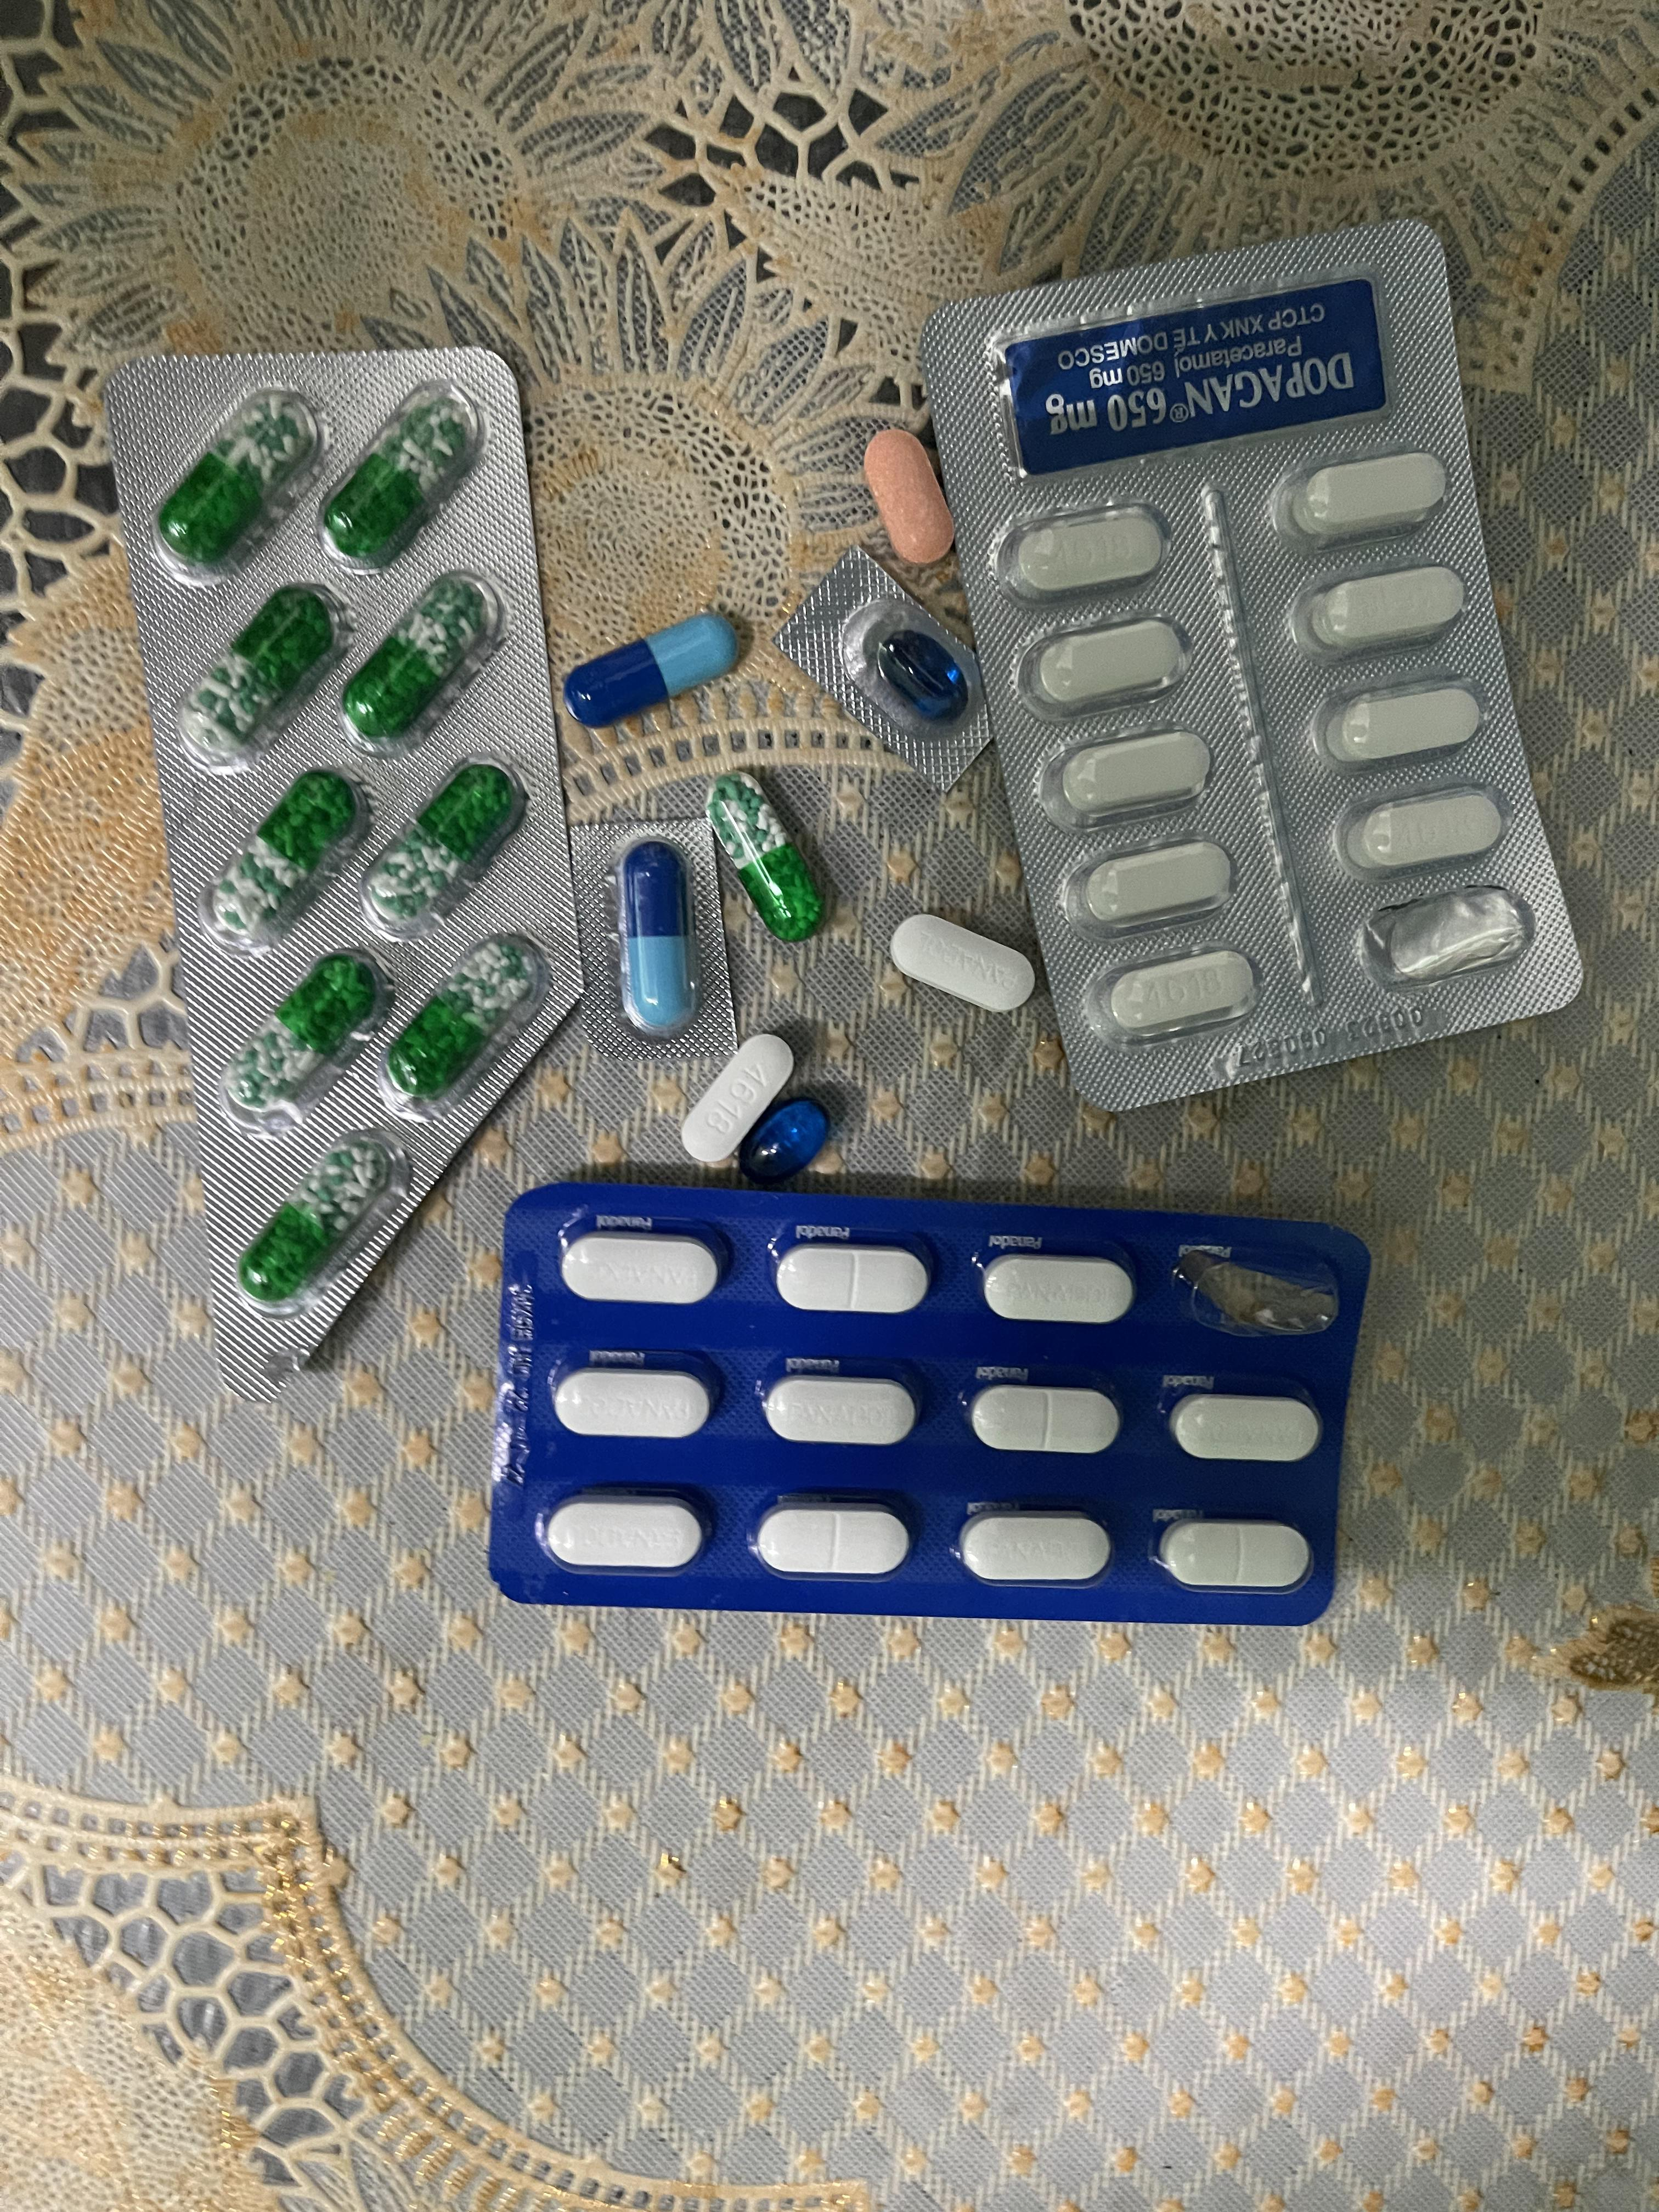Lincomyxin_500mg: (880, 631, 971, 718), (737, 1096, 828, 1179)
Loratadine_10mg: (864, 428, 955, 568)
Paracetamol_350mg: (889, 914, 1037, 1014), (542, 1491, 709, 1573), (756, 1496, 918, 1580), (563, 1230, 730, 1306), (552, 1367, 720, 1442), (763, 1371, 924, 1446), (957, 1508, 1112, 1585), (979, 1251, 1138, 1324), (774, 1242, 931, 1315), (1166, 1390, 1323, 1463), (1155, 1519, 1312, 1592), (969, 1383, 1122, 1454)
Paracetamol_500mg: (1272, 446, 1452, 549), (1084, 946, 1255, 1049), (995, 500, 1162, 603), (1046, 726, 1215, 827), (1063, 840, 1230, 937), (1295, 563, 1466, 657), (1025, 615, 1183, 714), (1338, 784, 1507, 876), (1319, 678, 1485, 770), (678, 1035, 796, 1162)
Paracetamol_650mg: (153, 390, 324, 580), (179, 583, 357, 765), (199, 768, 371, 954), (359, 752, 530, 935), (319, 381, 483, 571), (338, 571, 505, 752), (220, 956, 396, 1125), (383, 939, 549, 1116), (234, 1139, 403, 1292), (709, 773, 826, 944)
pill: (561, 610, 746, 726), (619, 845, 695, 1035)
